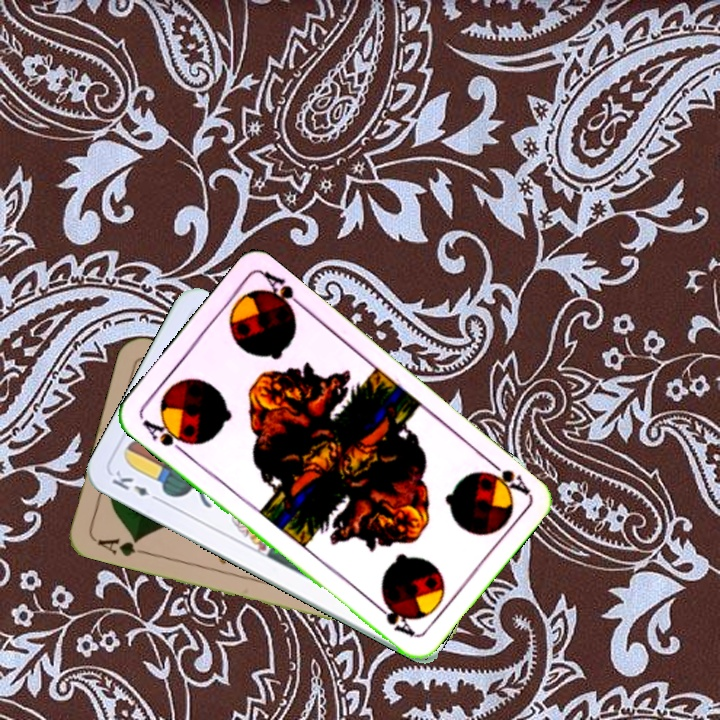EK: (108, 466, 164, 504)
GA: (93, 533, 151, 559)
SA: (478, 454, 533, 498), (138, 415, 194, 457)
